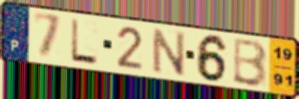2: (115, 25, 145, 71)
6: (194, 33, 231, 84)
7: (31, 11, 63, 61)
B: (231, 37, 269, 89)
L: (69, 17, 100, 67)
N: (150, 26, 187, 78)
